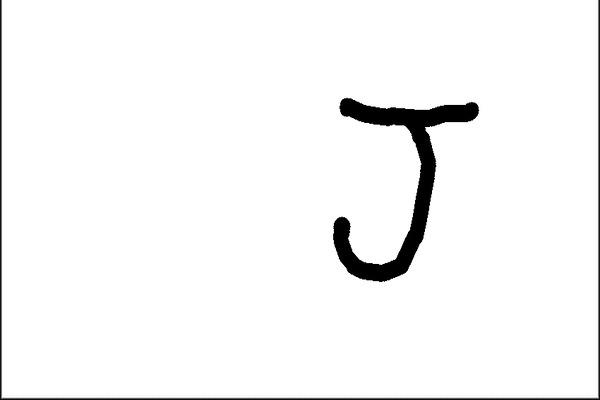J: (325, 88, 482, 286)
